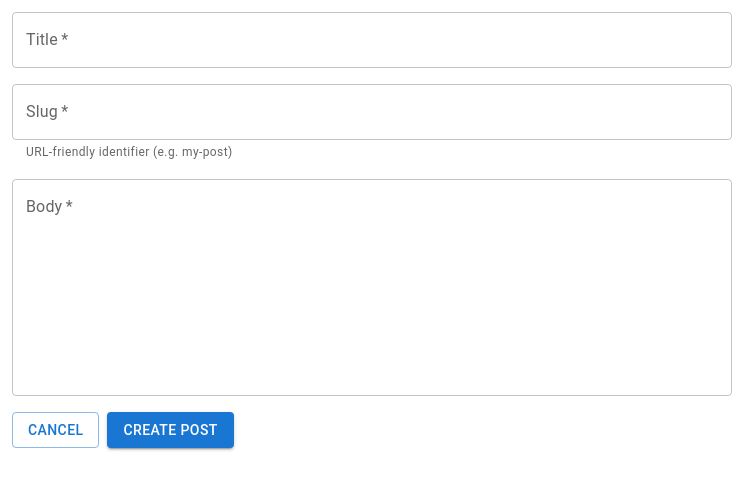
Scenario: NewPostForm › should show slug format validation error
The width and height of the screenshot is (749, 491).
Type "Test" into the field labelled "Title *".
click(372, 40); type("Test")  # box [12, 12, 732, 68]
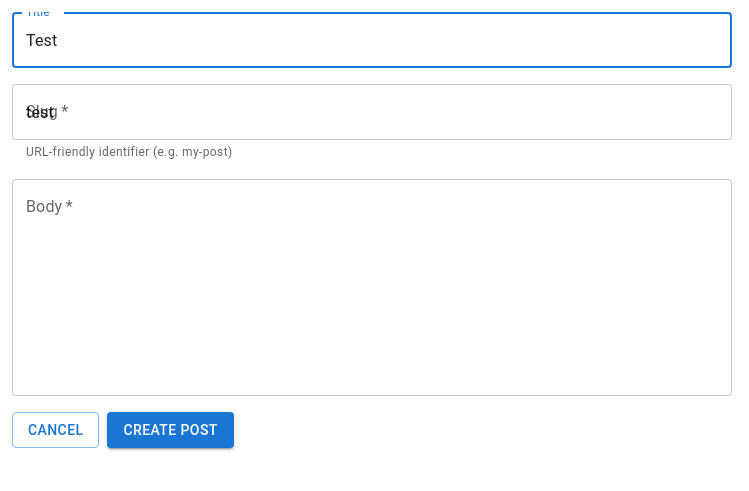
Type "INVALID SLUG!" into the field labelled "Slug *".
click(372, 112); type("INVALID SLUG!")  # box [12, 84, 732, 140]
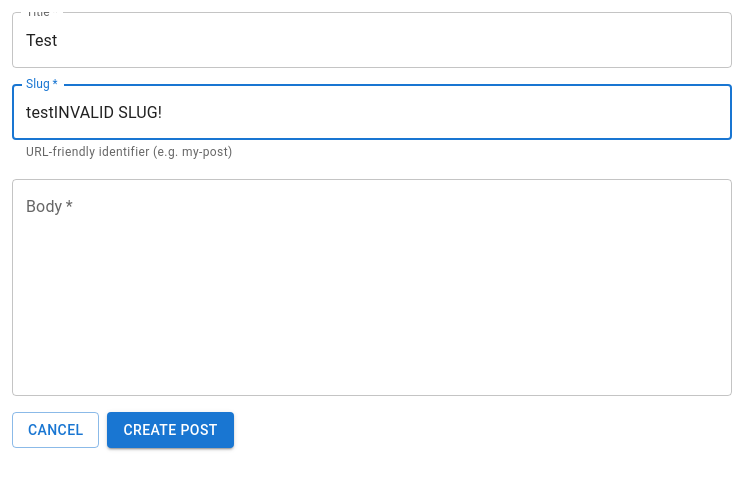
Type "Body text" into the text box labelled "Body *".
click(372, 287); type("Body text")  # box [26, 195, 718, 379]
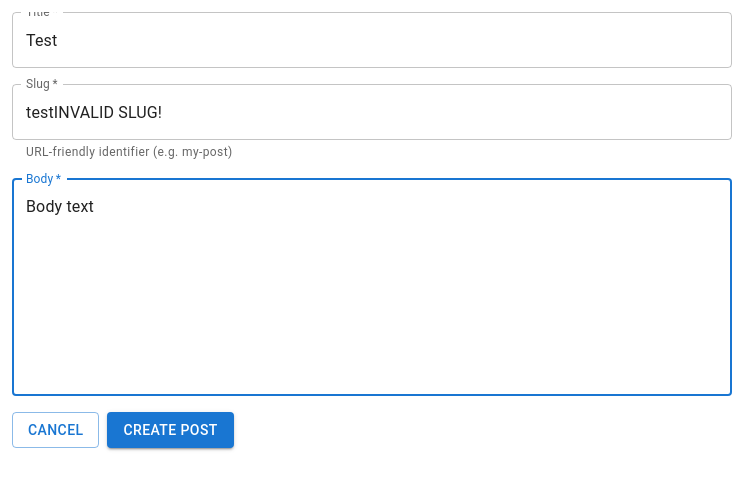
Click the button "Create Post".
click(171, 430)  # box [108, 412, 234, 448]
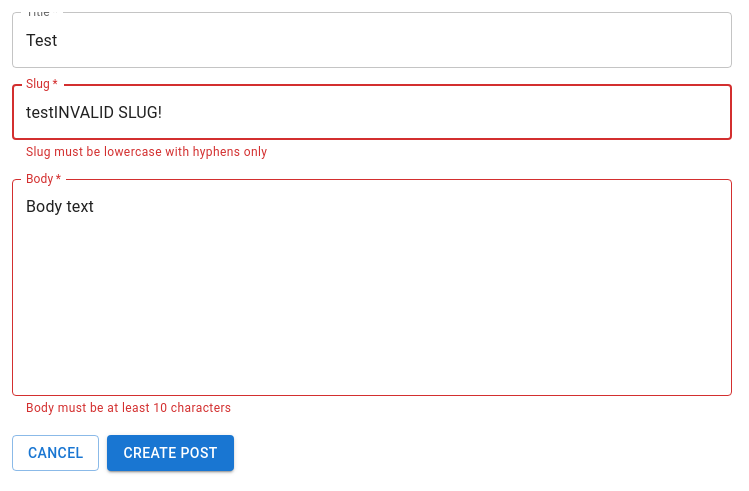
Now the text "Slug must be lowercase with hyphens only" is shown, box [26, 145, 267, 159]
